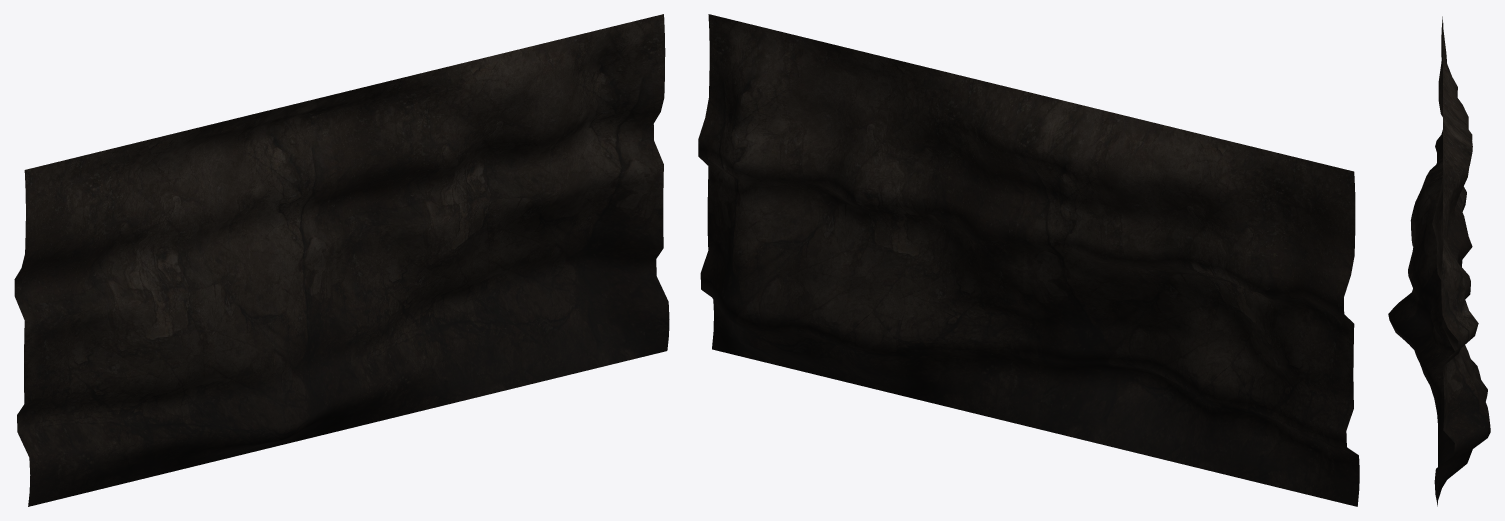
File: cliff_wall_8m_deep.glb
The picture shows the model from 3 angles, left to right: view 1: azimuth 30°, elevation 25°; view 2: azimuth 150°, elevation 25°; view 3: azimuth 270°, elevation 25°; orthographic projection. The views are drawn at different scales.
Parts seen in each view (by area): view 1: cliff_wall_8m_deep; view 2: cliff_wall_8m_deep; view 3: cliff_wall_8m_deep.
Boxes of the visible parts, x1,y1,x2,y2 form: cliff_wall_8m_deep: (14,14,669,506); cliff_wall_8m_deep: (698,14,1359,506); cliff_wall_8m_deep: (1388,16,1490,506).
Size of the model in its own units: 8 by 4 by 1.46.
Materials: 1 (1 with a texture image).
